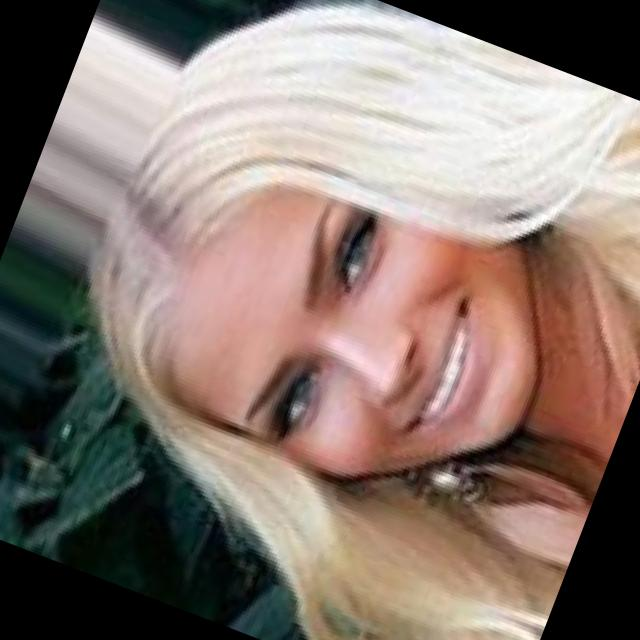bareface: (119, 52, 623, 560)
